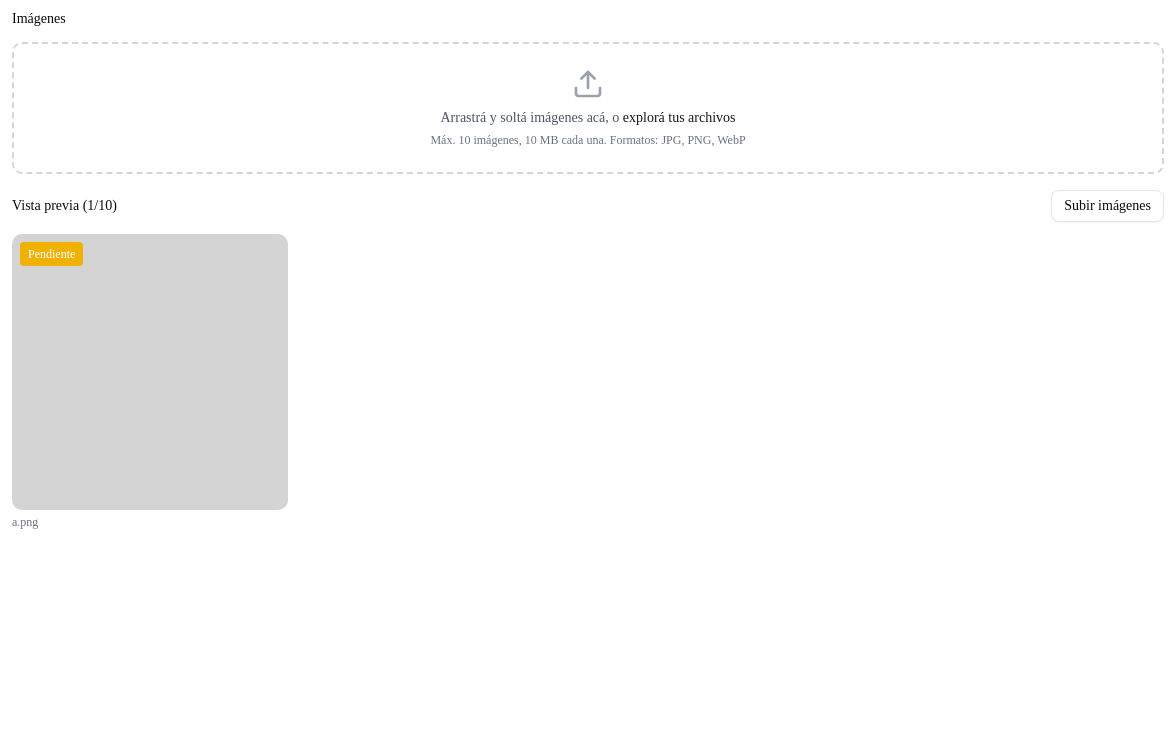
ImageUploadComponent: uploading to Cloudinary › posts pending files and stores the returned URLs
Earlier steps of the test are not shown.
Click the button "Subir imágenes". click: coordinates (1108, 206)
box: left=1051, top=190, right=1164, bottom=222
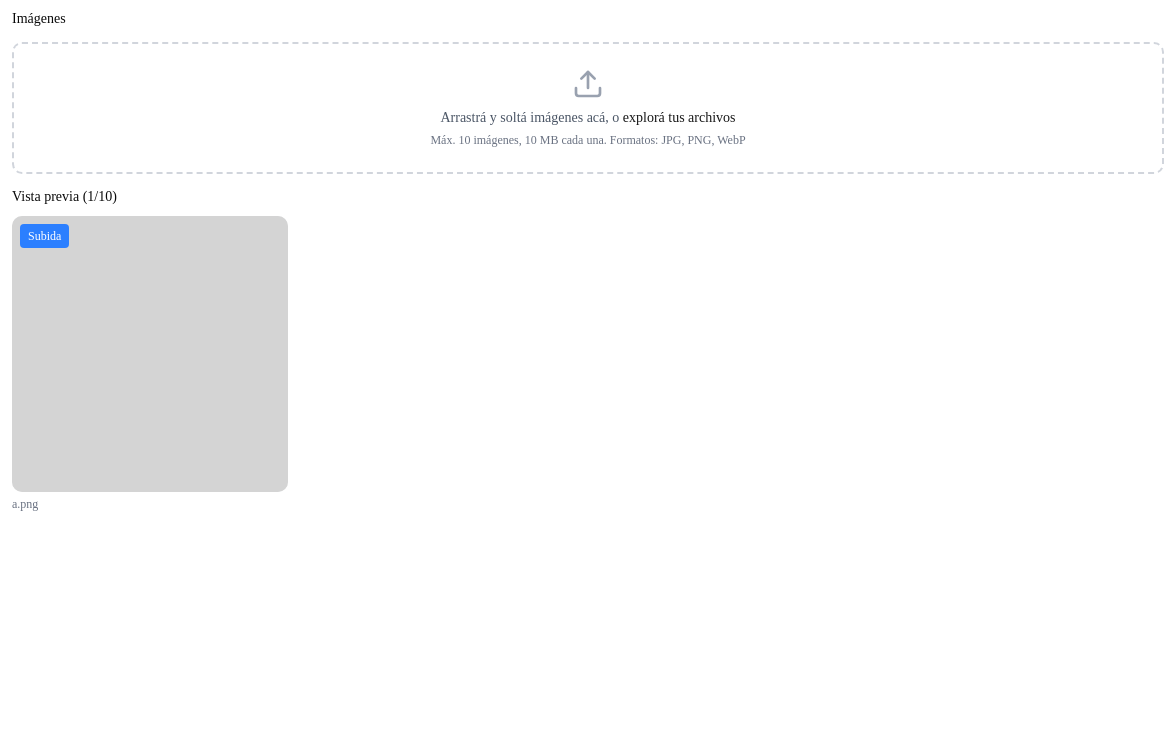
Check: the text "Subida" is shown, box left=20, top=224, right=69, bottom=248
